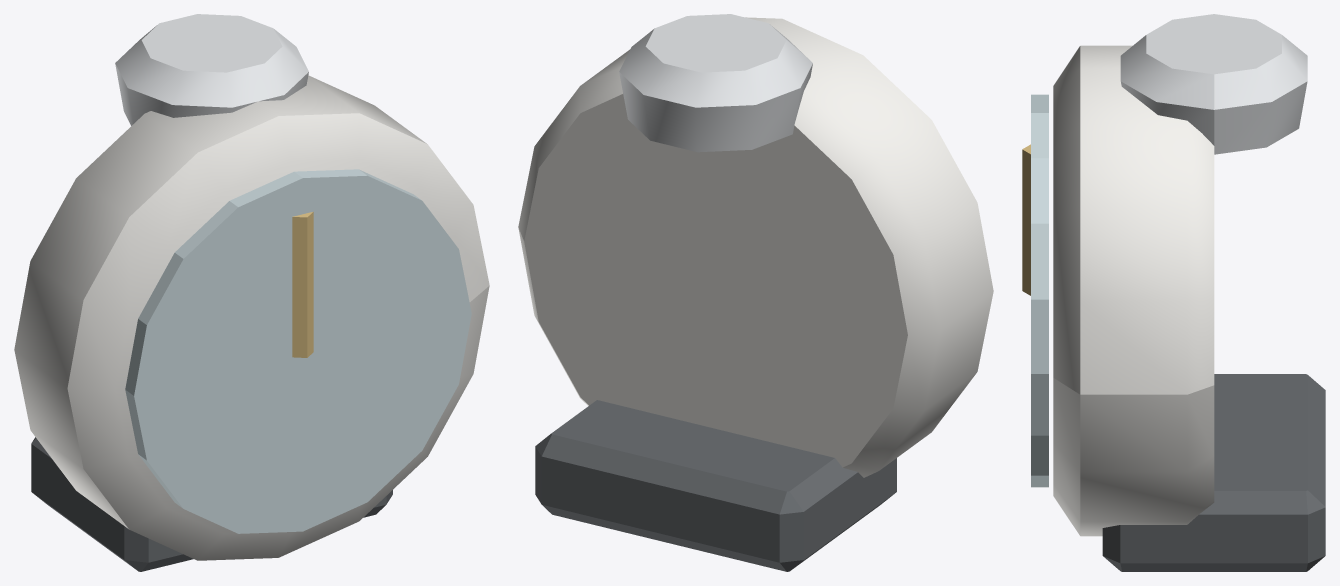
File: restaurant-kitchen-and-dining-kitchen-timer-34804a11__16447.glb
The picture shows the model from 3 angles, left to right: view 1: azimuth 30°, elevation 25°; view 2: azimuth 150°, elevation 25°; view 3: azimuth 270°, elevation 25°; orthographic projection.
Visible parts, largest first — view 1: kitchen-timer; view 2: kitchen-timer; view 3: kitchen-timer.
Boxes of the visible parts, x1,y1,x2,y2 form: kitchen-timer: (14,14,489,571); kitchen-timer: (518,14,993,571); kitchen-timer: (1022,14,1325,571).
Bounding box in the file's own units: 0.11 × 0.116 × 0.068.
